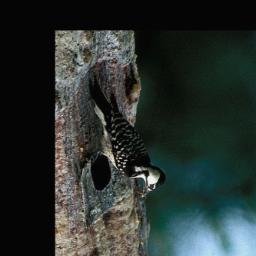Woodpecker: (89, 73, 167, 200)
